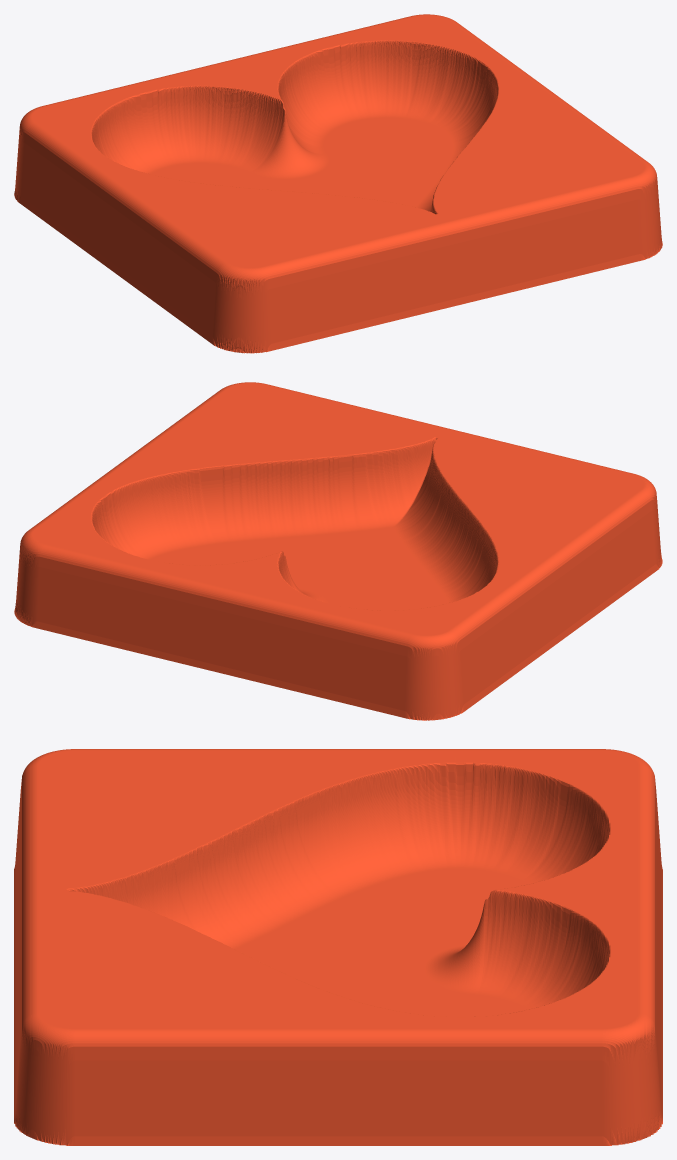
The model's file is mold.glb.
The picture shows the model from 3 angles, top to bottom: view 1: azimuth 30°, elevation 25°; view 2: azimuth 150°, elevation 25°; view 3: azimuth 270°, elevation 25°; orthographic projection. The views are drawn at different scales.
Parts seen in each view (by area): view 1: geometry_0; view 2: geometry_0; view 3: geometry_0.
Boxes of the visible parts, <box> form: geometry_0: <box>14,14,662,353</box>; geometry_0: <box>14,382,662,720</box>; geometry_0: <box>14,749,662,1145</box>.
Bounding box in the file's own units: 0.105 × 0.0175 × 0.0964.
